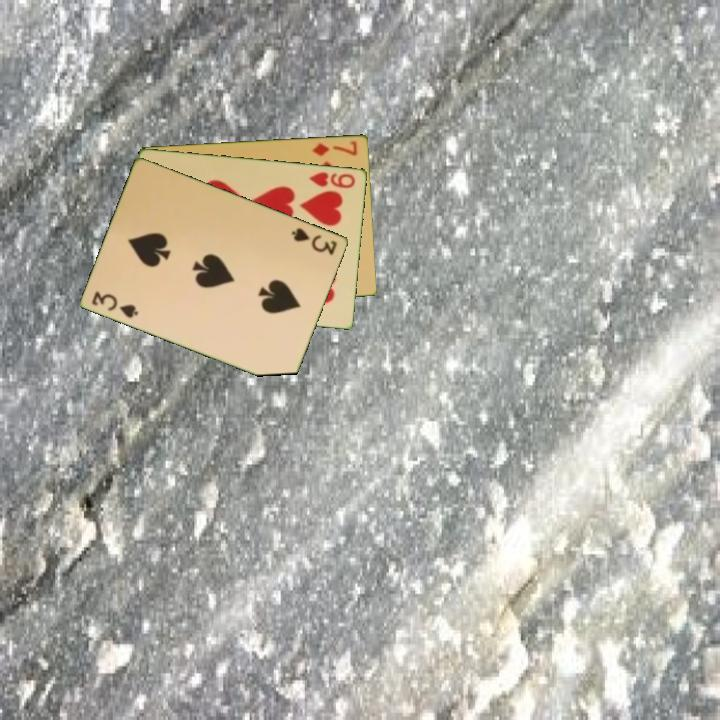3s: (88, 287, 141, 321), (288, 224, 340, 258)
7d: (309, 137, 360, 159)
9h: (306, 168, 358, 191)
